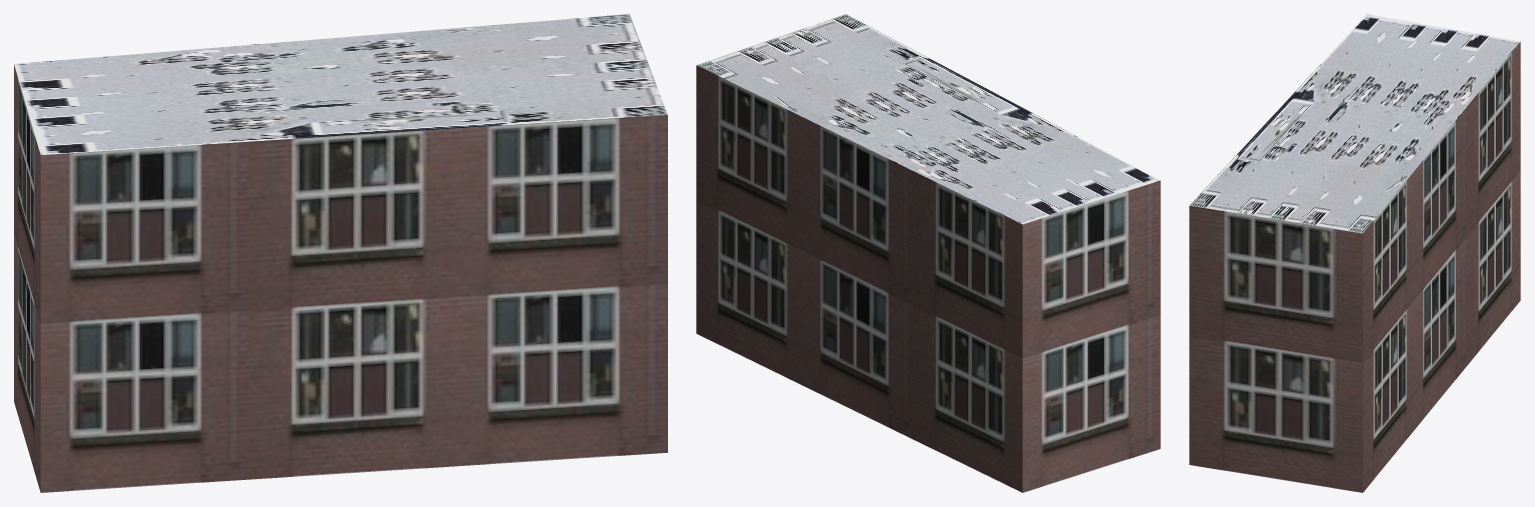
Rendered from ResTex__2671.fbx.
3 views of the same model, side by side, from view 1: azimuth 30°, elevation 25°; view 2: azimuth 150°, elevation 25°; view 3: azimuth 270°, elevation 25° (orthographic). The views are drawn at different scales.
Visible parts, largest first — view 1: CityEngineMaterial_12_m, CityEngineMaterial_m; view 2: CityEngineMaterial_12_m, CityEngineMaterial_m; view 3: CityEngineMaterial_12_m, CityEngineMaterial_m.
Boxes of the visible parts, x1,y1,x2,y2 form: CityEngineMaterial_12_m: [14, 65, 667, 492]; CityEngineMaterial_m: [14, 14, 667, 154]; CityEngineMaterial_12_m: [696, 65, 1160, 492]; CityEngineMaterial_m: [697, 14, 1159, 224]; CityEngineMaterial_12_m: [1189, 42, 1520, 492]; CityEngineMaterial_m: [1190, 14, 1520, 233].
Bounding box in the file's own units: 10.9 × 6 × 6.94.
Materials: 2 (2 with a texture image).
